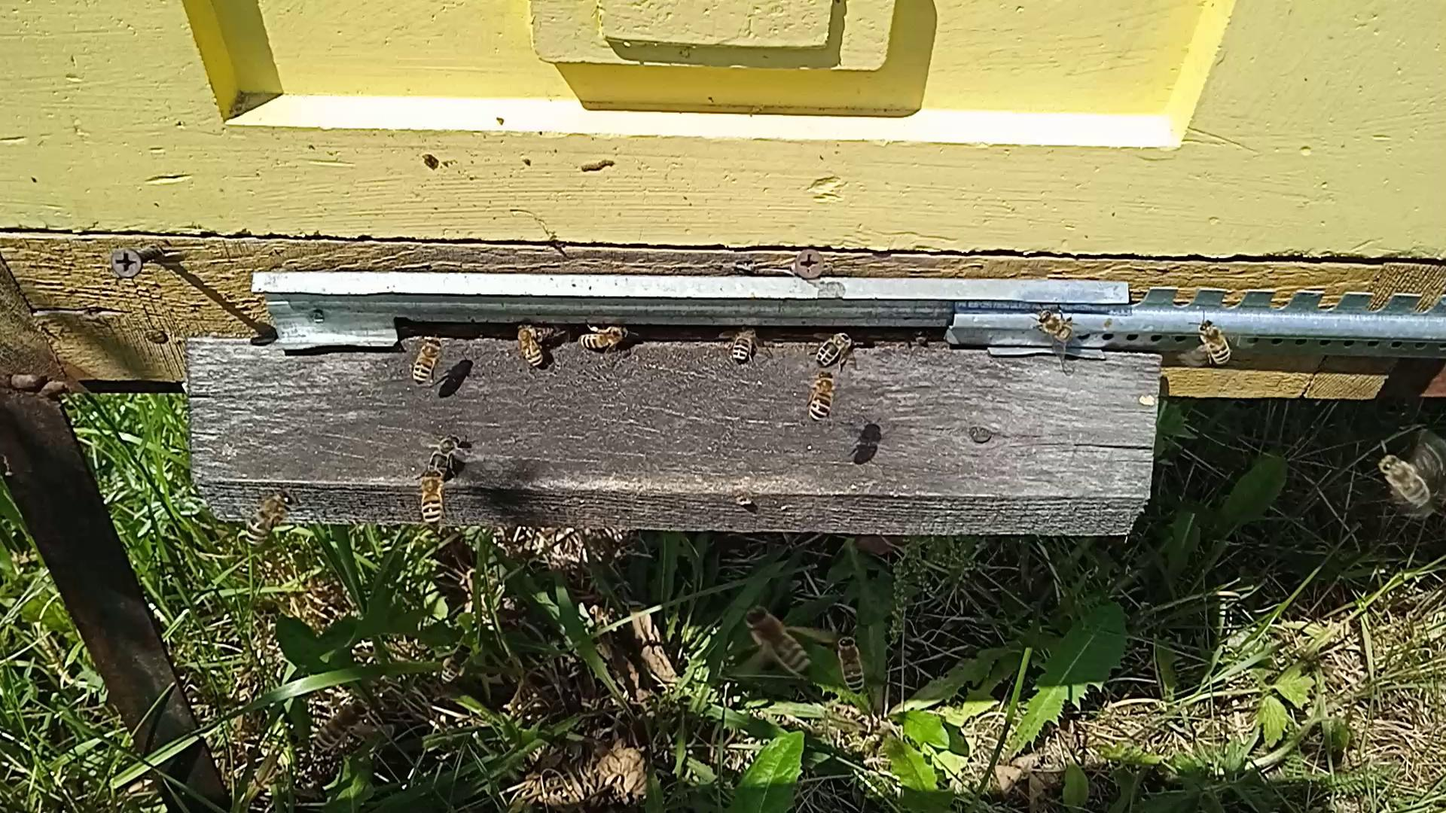worker-bee: (743, 606, 813, 674), (313, 702, 375, 753), (1378, 454, 1432, 509), (244, 490, 294, 547), (834, 635, 866, 693), (410, 335, 447, 385), (511, 321, 548, 367), (1197, 319, 1232, 366), (807, 369, 838, 422), (418, 468, 445, 527), (431, 431, 465, 477), (815, 330, 857, 367), (578, 324, 633, 350), (1036, 309, 1075, 343), (440, 642, 471, 684), (727, 325, 758, 364), (535, 324, 567, 343)
